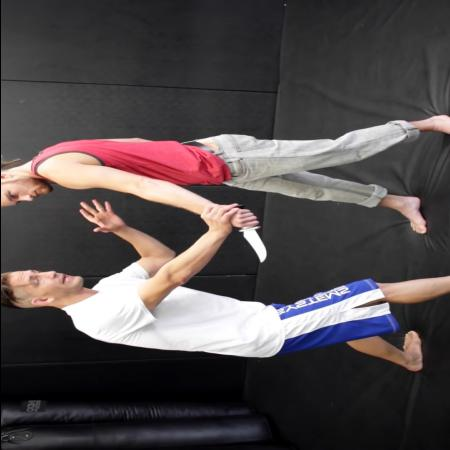long weapon: (232, 204, 274, 266)
